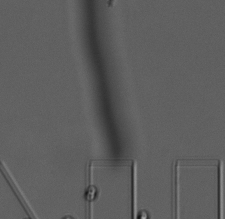Dead Cell: (83, 185, 99, 202)
